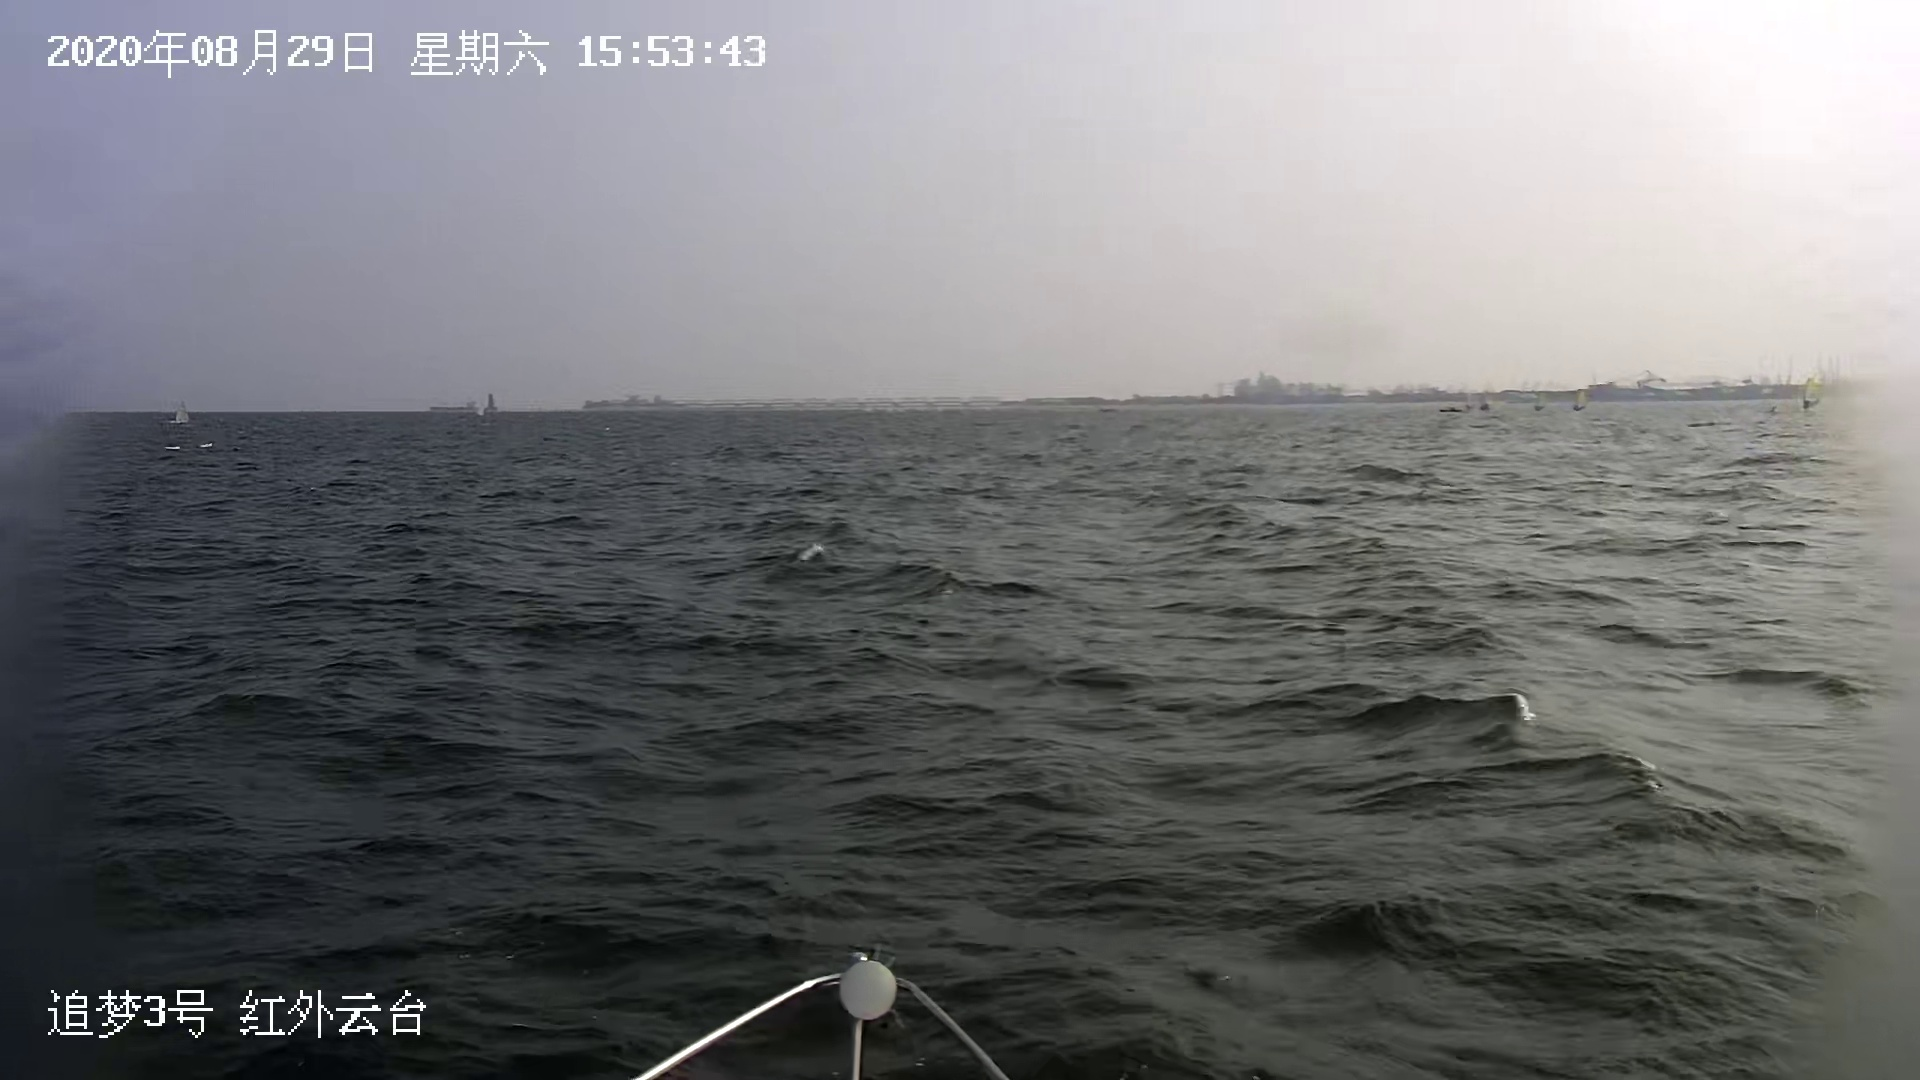barrier: (1804, 377, 1824, 411), (170, 397, 190, 423), (1573, 388, 1592, 415), (1440, 400, 1464, 415), (1535, 392, 1551, 413), (1484, 393, 1495, 410), (1466, 392, 1476, 409)
coast: (419, 349, 1888, 419)
